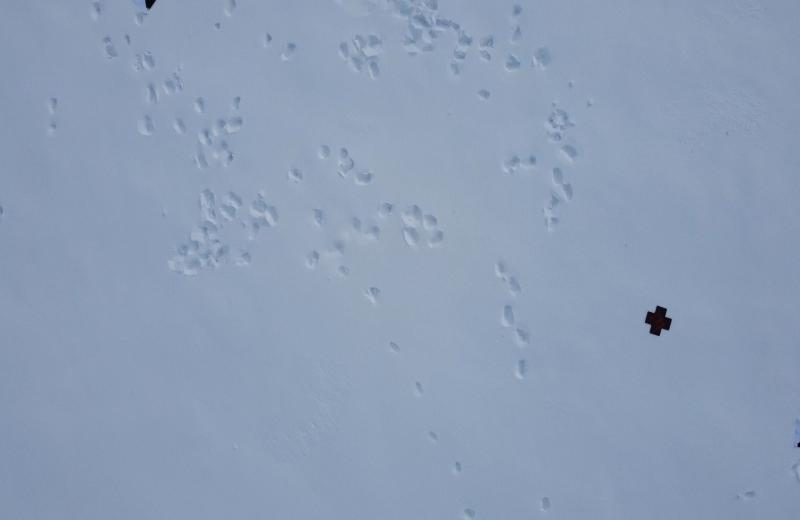Cross: (645, 301, 674, 338)
